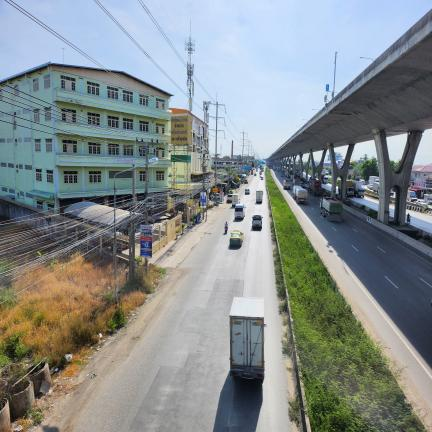car: (416, 199, 428, 207), (368, 184, 373, 190), (245, 189, 250, 194)
motorbike: (406, 214, 411, 223), (225, 226, 228, 234)
pickup: (226, 194, 232, 202), (244, 179, 248, 184)
taxi: (230, 231, 243, 246)
truck: (230, 297, 264, 379), (320, 197, 343, 221), (293, 185, 307, 204), (308, 178, 322, 196), (352, 180, 365, 198), (252, 215, 262, 229), (407, 189, 417, 202), (256, 189, 263, 203), (231, 194, 239, 206), (283, 179, 291, 189), (424, 194, 432, 204), (293, 178, 301, 185)
van: (234, 203, 245, 219)
